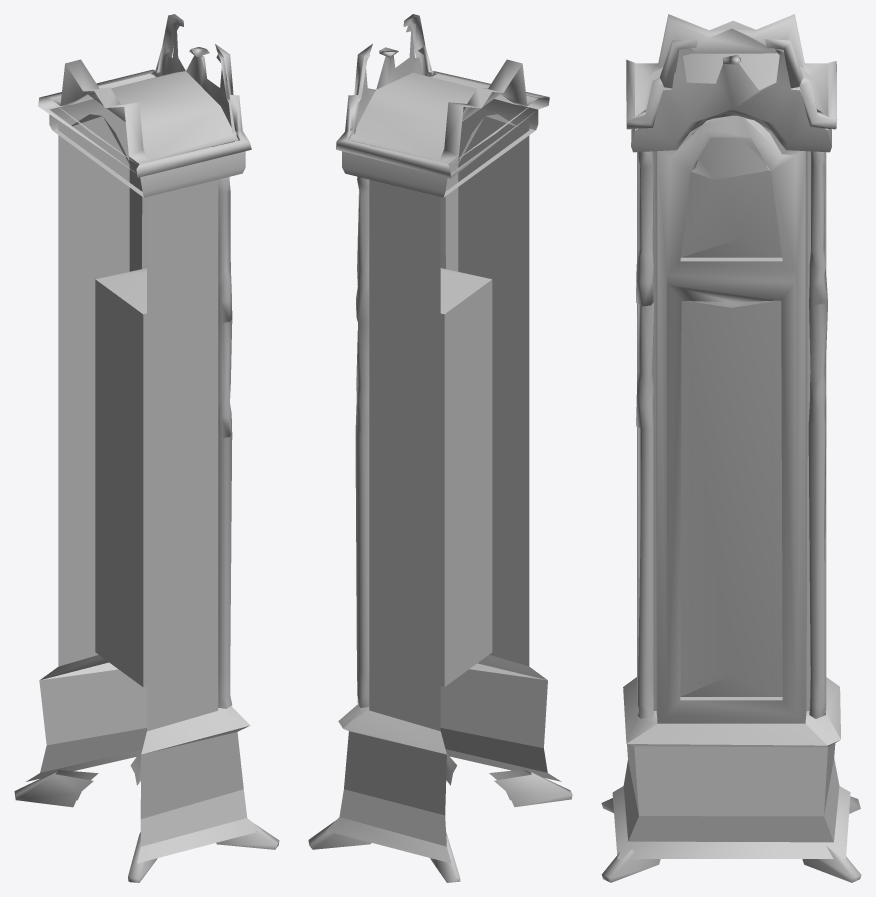
Rendered from grandClock_LOD2.fbx.
3 views of the same model, side by side, from view 1: azimuth 30°, elevation 25°; view 2: azimuth 150°, elevation 25°; view 3: azimuth 270°, elevation 25° (orthographic). The views are drawn at different scales.
Visible parts, largest first — view 1: clock_LOD2; view 2: clock_LOD2; view 3: clock_LOD2.
Boxes of the visible parts, <box> form: clock_LOD2: <box>14,14,279,882</box>; clock_LOD2: <box>308,14,572,882</box>; clock_LOD2: <box>601,14,861,882</box>.
Size of the model in its own units: 38.03 by 186 by 52.78.
